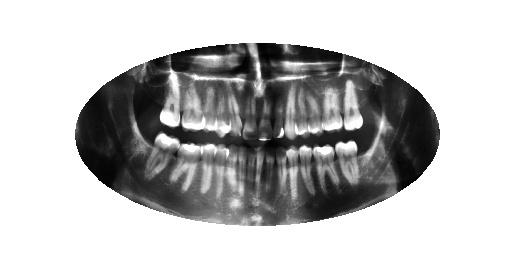Cavity: (257, 86, 274, 143), (242, 91, 258, 143), (272, 82, 286, 141), (254, 143, 265, 203), (248, 146, 258, 198), (276, 147, 286, 193), (265, 150, 275, 191)
Fillings: (144, 132, 183, 184), (169, 141, 203, 196), (335, 140, 364, 188), (314, 144, 340, 197), (341, 79, 365, 133), (319, 82, 343, 131), (157, 86, 182, 128), (182, 88, 204, 134)
